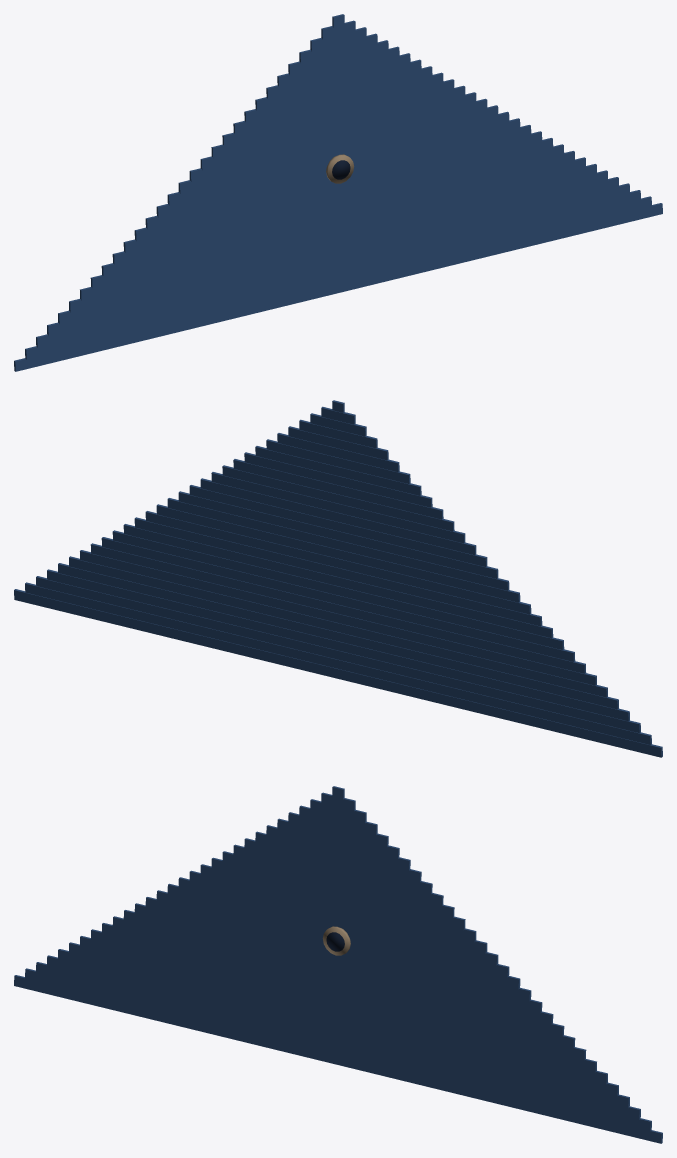
File: kit_clapboard_gable_w8.glb
3 views of the same model, one above another, from view 1: azimuth 30°, elevation 25°; view 2: azimuth 150°, elevation 25°; view 3: azimuth 330°, elevation 25° (orthographic).
Visible parts, largest first — view 1: kit_clapboard_gable_w8; view 2: kit_clapboard_gable_w8; view 3: kit_clapboard_gable_w8.
Part boxes in pixels (x1,y1,x2,y2): kit_clapboard_gable_w8: (14, 14, 662, 371); kit_clapboard_gable_w8: (14, 400, 662, 757); kit_clapboard_gable_w8: (14, 786, 662, 1143).
Bounding box in the file's own units: 7.87 × 3.21 × 0.082.
